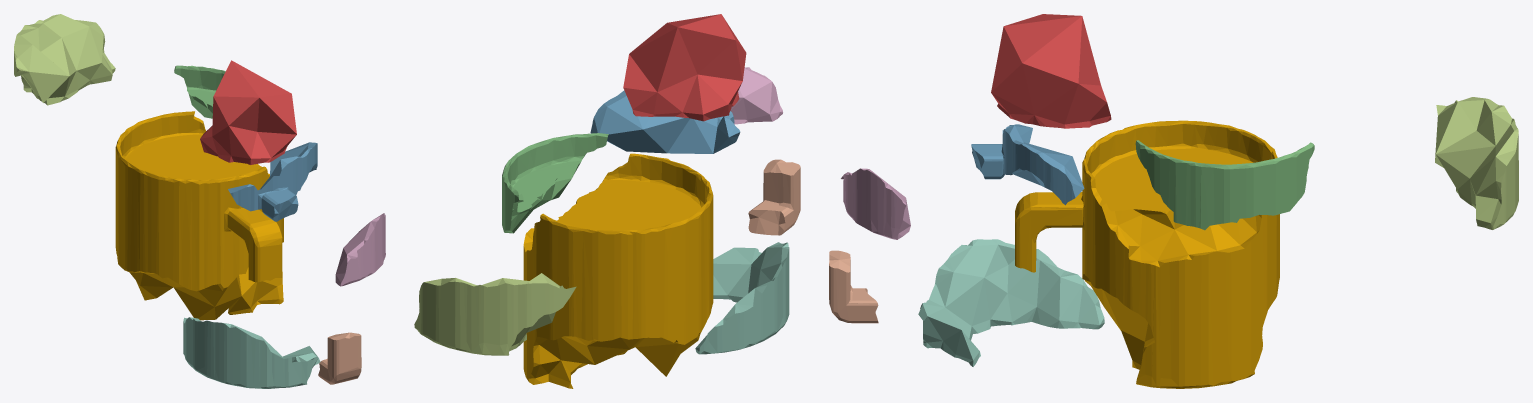
The model's file is mode_16_8pcs_transformed.glb.
The picture shows the model from 3 angles, left to right: view 1: azimuth 30°, elevation 25°; view 2: azimuth 150°, elevation 25°; view 3: azimuth 270°, elevation 25°; orthographic projection. The views are drawn at different scales.
Visible parts, largest first — view 1: piece_0.obj, piece_1.obj, piece_5.obj, piece_4.obj, piece_2.obj, piece_6.obj, piece_7.obj, piece_3.obj; view 2: piece_0.obj, piece_1.obj, piece_5.obj, piece_4.obj, piece_3.obj, piece_2.obj, piece_7.obj, piece_6.obj; view 3: piece_0.obj, piece_4.obj, piece_1.obj, piece_3.obj, piece_5.obj, piece_2.obj, piece_6.obj, piece_7.obj.
Part boxes in pixels (x1,y1,x2,y2): piece_0.obj: (115, 111, 283, 320); piece_1.obj: (200, 60, 296, 164); piece_5.obj: (14, 14, 115, 105); piece_4.obj: (183, 317, 320, 388); piece_2.obj: (228, 142, 317, 221); piece_6.obj: (335, 213, 385, 286); piece_7.obj: (318, 332, 361, 384); piece_3.obj: (174, 65, 225, 118); piece_0.obj: (523, 153, 713, 388); piece_1.obj: (623, 14, 746, 121); piece_5.obj: (414, 273, 576, 355); piece_4.obj: (695, 242, 789, 354); piece_3.obj: (502, 133, 608, 233); piece_2.obj: (590, 90, 740, 153); piece_7.obj: (748, 159, 800, 235); piece_6.obj: (730, 67, 782, 124); piece_0.obj: (1015, 120, 1279, 388); piece_4.obj: (918, 239, 1104, 366); piece_1.obj: (991, 14, 1111, 128); piece_3.obj: (1135, 140, 1314, 230); piece_5.obj: (1435, 97, 1518, 229); piece_2.obj: (971, 124, 1084, 205); piece_6.obj: (841, 168, 910, 239); piece_7.obj: (829, 250, 878, 323).
Size of the model in its own units: 0.7449 by 1.36 by 2.6.
